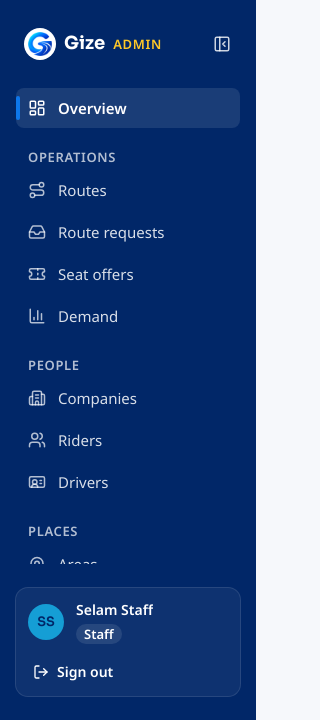
Test: PortalShell: collapsing the sidebar › collapses to icons and back, keeping focus on the button and every link's name
The width and height of the screenshot is (320, 720).
Later steps or results of the test are not shown.
Click the button named "Collapse sidebar".
click(222, 44)  # box x1=204 y1=26 x2=240 y2=62
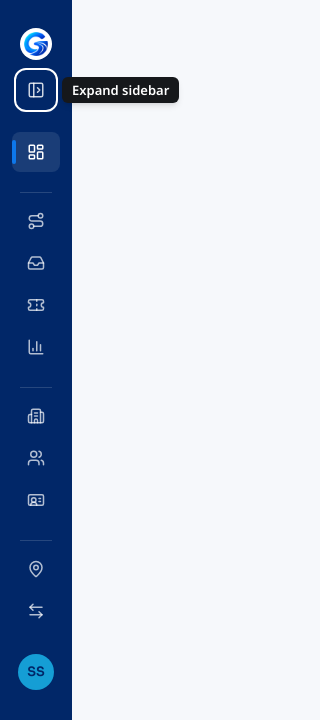
Expected: the 2nd list named "Operations" is shown, x1=12 y1=201 x2=60 y2=367
Now the tooltip "Expand sidebar" is shown, box x1=62 y1=77 x2=179 y2=103
